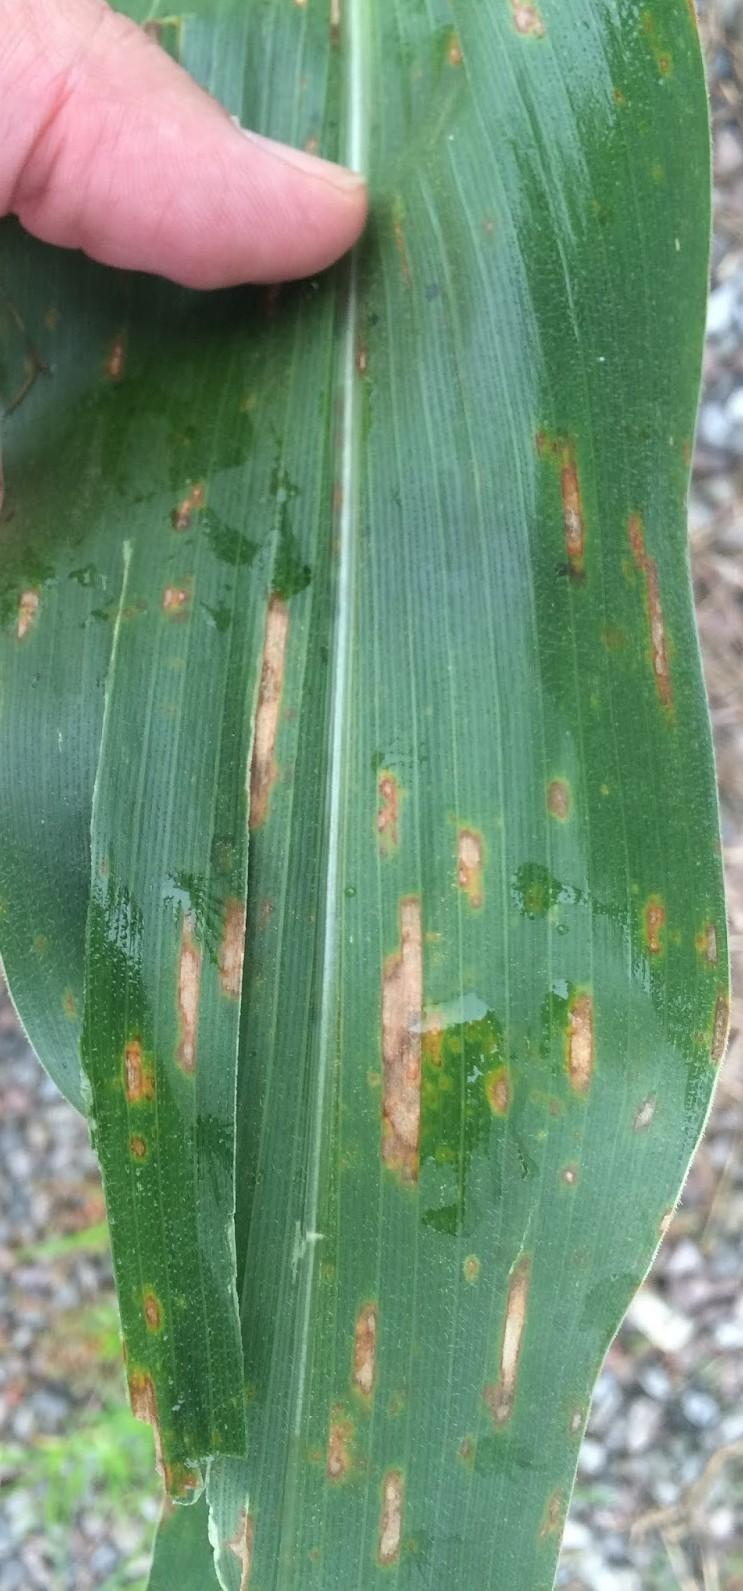Gray_Leaf_Spot: (118, 1279, 270, 1591), (331, 881, 461, 1195), (308, 1271, 419, 1591), (638, 864, 743, 1081), (606, 488, 698, 700), (239, 586, 321, 821), (508, 384, 600, 584), (168, 881, 258, 1024), (464, 1227, 524, 1439), (61, 301, 166, 409), (106, 992, 168, 1163), (343, 729, 425, 846), (248, 111, 371, 184), (530, 736, 616, 837), (540, 973, 613, 1087), (638, 19, 711, 127), (109, 0, 198, 73), (131, 571, 237, 631), (7, 568, 67, 666), (451, 811, 492, 935), (470, 1059, 527, 1148), (144, 475, 237, 523), (464, 0, 565, 41), (426, 19, 486, 86), (350, 317, 404, 390), (543, 1142, 613, 1189), (603, 1094, 670, 1138), (584, 82, 644, 130), (229, 374, 280, 428), (549, 1265, 584, 1322), (315, 0, 353, 32)
